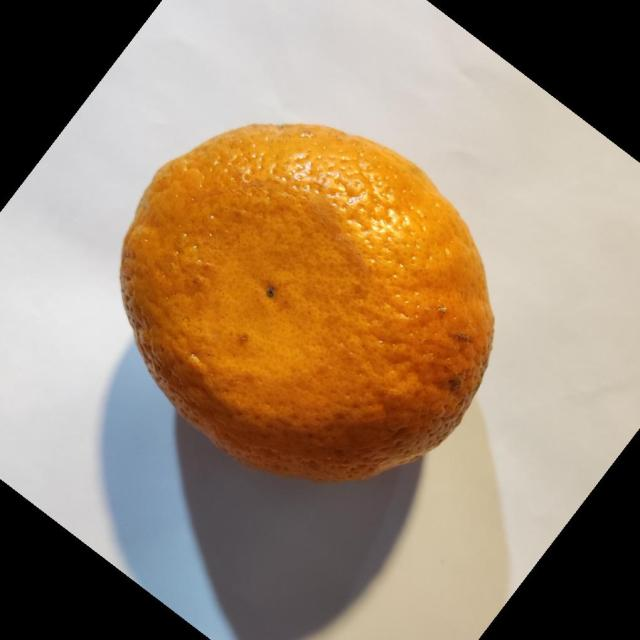fresh orange: (119, 121, 495, 483)
